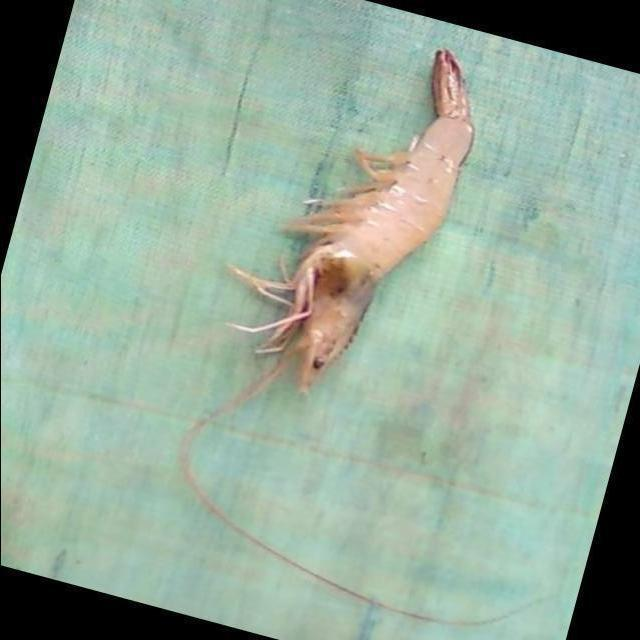shrimp: (230, 48, 474, 393)
